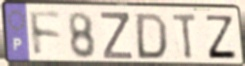8: (67, 11, 97, 61)
D: (135, 12, 169, 61)
F: (28, 9, 64, 60)
T: (171, 12, 199, 61)
Z: (99, 10, 135, 61), (204, 13, 239, 61)
